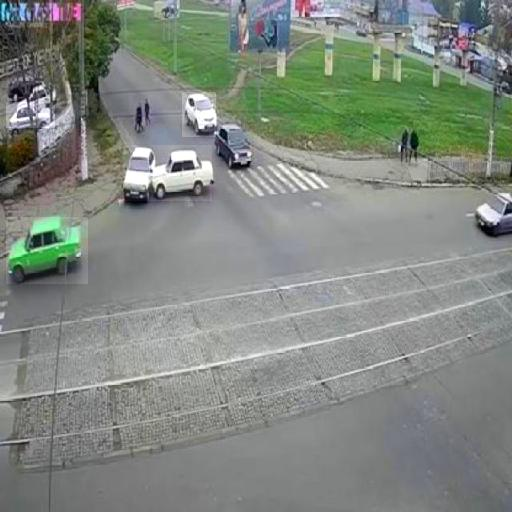小汽车: (6, 217, 88, 284), (215, 122, 254, 167), (182, 92, 216, 137), (6, 102, 55, 128)
小汽车撞小汽车: (123, 146, 212, 202)
